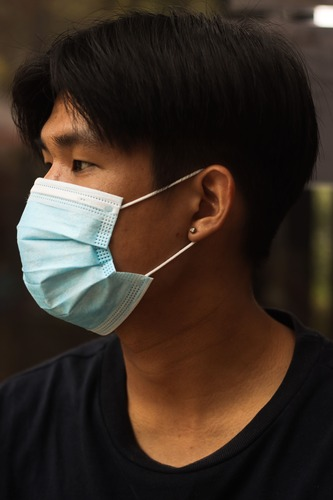with_mask: (21, 94, 180, 333)
